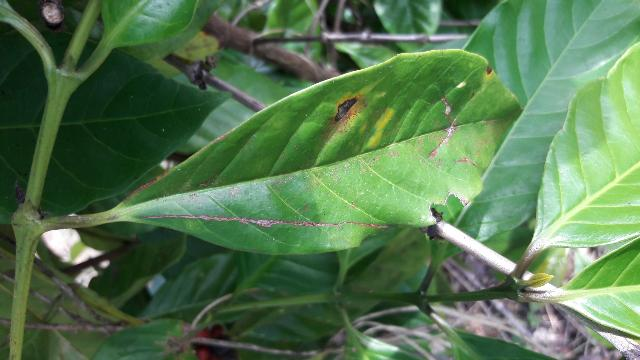rust_level_2: (105, 51, 523, 257)
